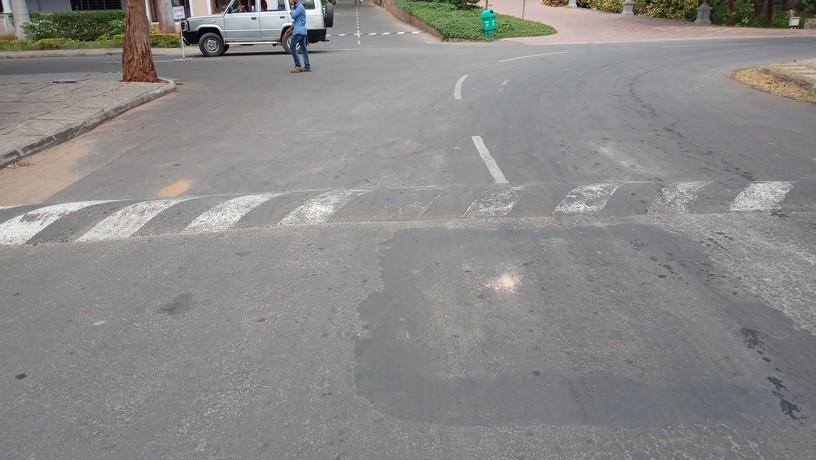speed-bump: (3, 177, 816, 245)
